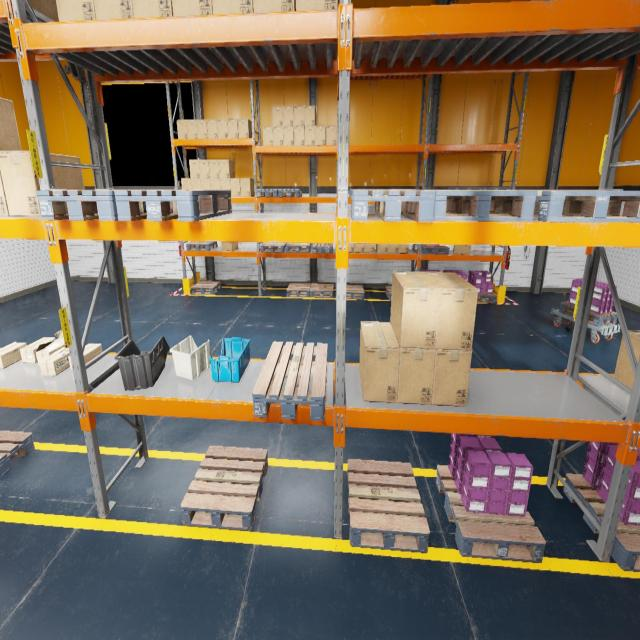box: (0, 150, 84, 216), (424, 272, 478, 350), (390, 271, 440, 348), (390, 323, 436, 404), (359, 322, 400, 402), (431, 349, 472, 407), (296, 0, 338, 49), (614, 330, 640, 389), (36, 330, 68, 366), (0, 97, 21, 150), (39, 346, 70, 376), (68, 343, 102, 370), (20, 337, 55, 363), (56, 0, 96, 21), (94, 0, 134, 20), (132, 0, 173, 18), (0, 342, 26, 368), (172, 0, 213, 16), (28, 0, 58, 21), (212, 0, 253, 14), (253, 0, 295, 12), (0, 169, 9, 216), (219, 159, 235, 178), (238, 119, 252, 138), (240, 178, 254, 196), (206, 119, 218, 139), (304, 106, 316, 126), (282, 106, 294, 126), (208, 159, 220, 178), (272, 106, 283, 126), (283, 126, 294, 146), (262, 126, 273, 146), (196, 120, 208, 138), (186, 120, 198, 138), (176, 120, 188, 138), (217, 119, 228, 138), (326, 126, 337, 145), (315, 126, 326, 145), (304, 126, 315, 145), (294, 126, 304, 146), (294, 106, 304, 126), (273, 126, 283, 146), (199, 160, 210, 178), (189, 160, 200, 178), (228, 119, 238, 138), (230, 178, 240, 196), (453, 245, 471, 254), (221, 242, 238, 250), (200, 178, 211, 190), (220, 178, 230, 190), (210, 178, 220, 190), (190, 178, 200, 189), (181, 178, 191, 189), (398, 244, 409, 253), (376, 244, 388, 252), (388, 244, 398, 253), (364, 244, 374, 252), (354, 244, 364, 252), (349, 243, 354, 252)
pallets: (436, 465, 546, 563), (347, 459, 430, 553), (563, 473, 640, 572), (180, 446, 268, 530), (252, 341, 328, 421), (36, 190, 170, 220), (114, 190, 232, 221), (533, 190, 640, 222), (434, 190, 538, 222), (351, 190, 436, 222), (0, 430, 35, 478), (559, 301, 617, 327), (192, 281, 222, 294), (286, 283, 311, 297), (310, 284, 333, 298), (418, 244, 450, 254), (186, 241, 217, 251), (260, 242, 288, 252), (346, 285, 364, 299), (286, 242, 311, 252), (313, 243, 333, 254), (477, 293, 497, 303), (278, 189, 302, 197), (257, 189, 278, 197), (348, 189, 361, 197), (385, 286, 392, 300)
